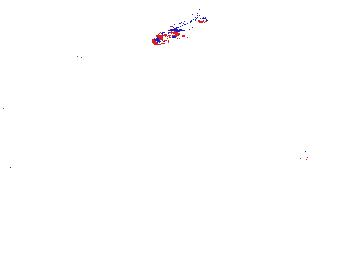X-ray fish: (238, 99, 287, 134), (280, 158, 329, 190), (290, 144, 329, 163)
red belly glassfish: (150, 19, 207, 46), (48, 1, 92, 22)
redtail glassfish: (25, 49, 91, 71)
